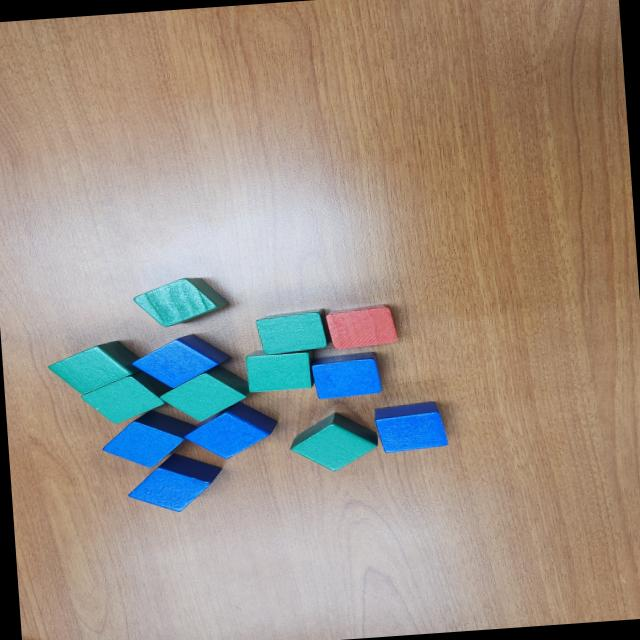blue: (124, 448, 226, 514), (126, 330, 233, 392), (99, 406, 199, 470), (181, 398, 281, 461), (372, 400, 449, 454), (308, 350, 384, 400)
green: (286, 409, 379, 475), (44, 338, 146, 397), (157, 362, 253, 424), (78, 368, 174, 426), (130, 274, 232, 328), (254, 308, 330, 354), (242, 345, 316, 392)
red: (322, 302, 399, 352)
